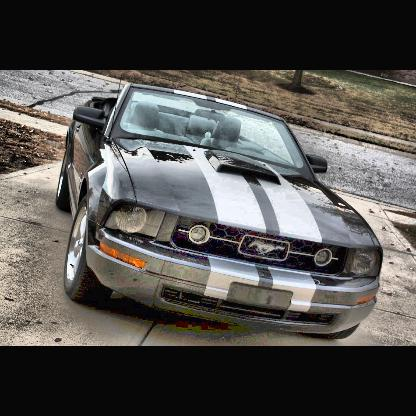Ford Mustang Convertible 2007: (56, 81, 387, 342)
